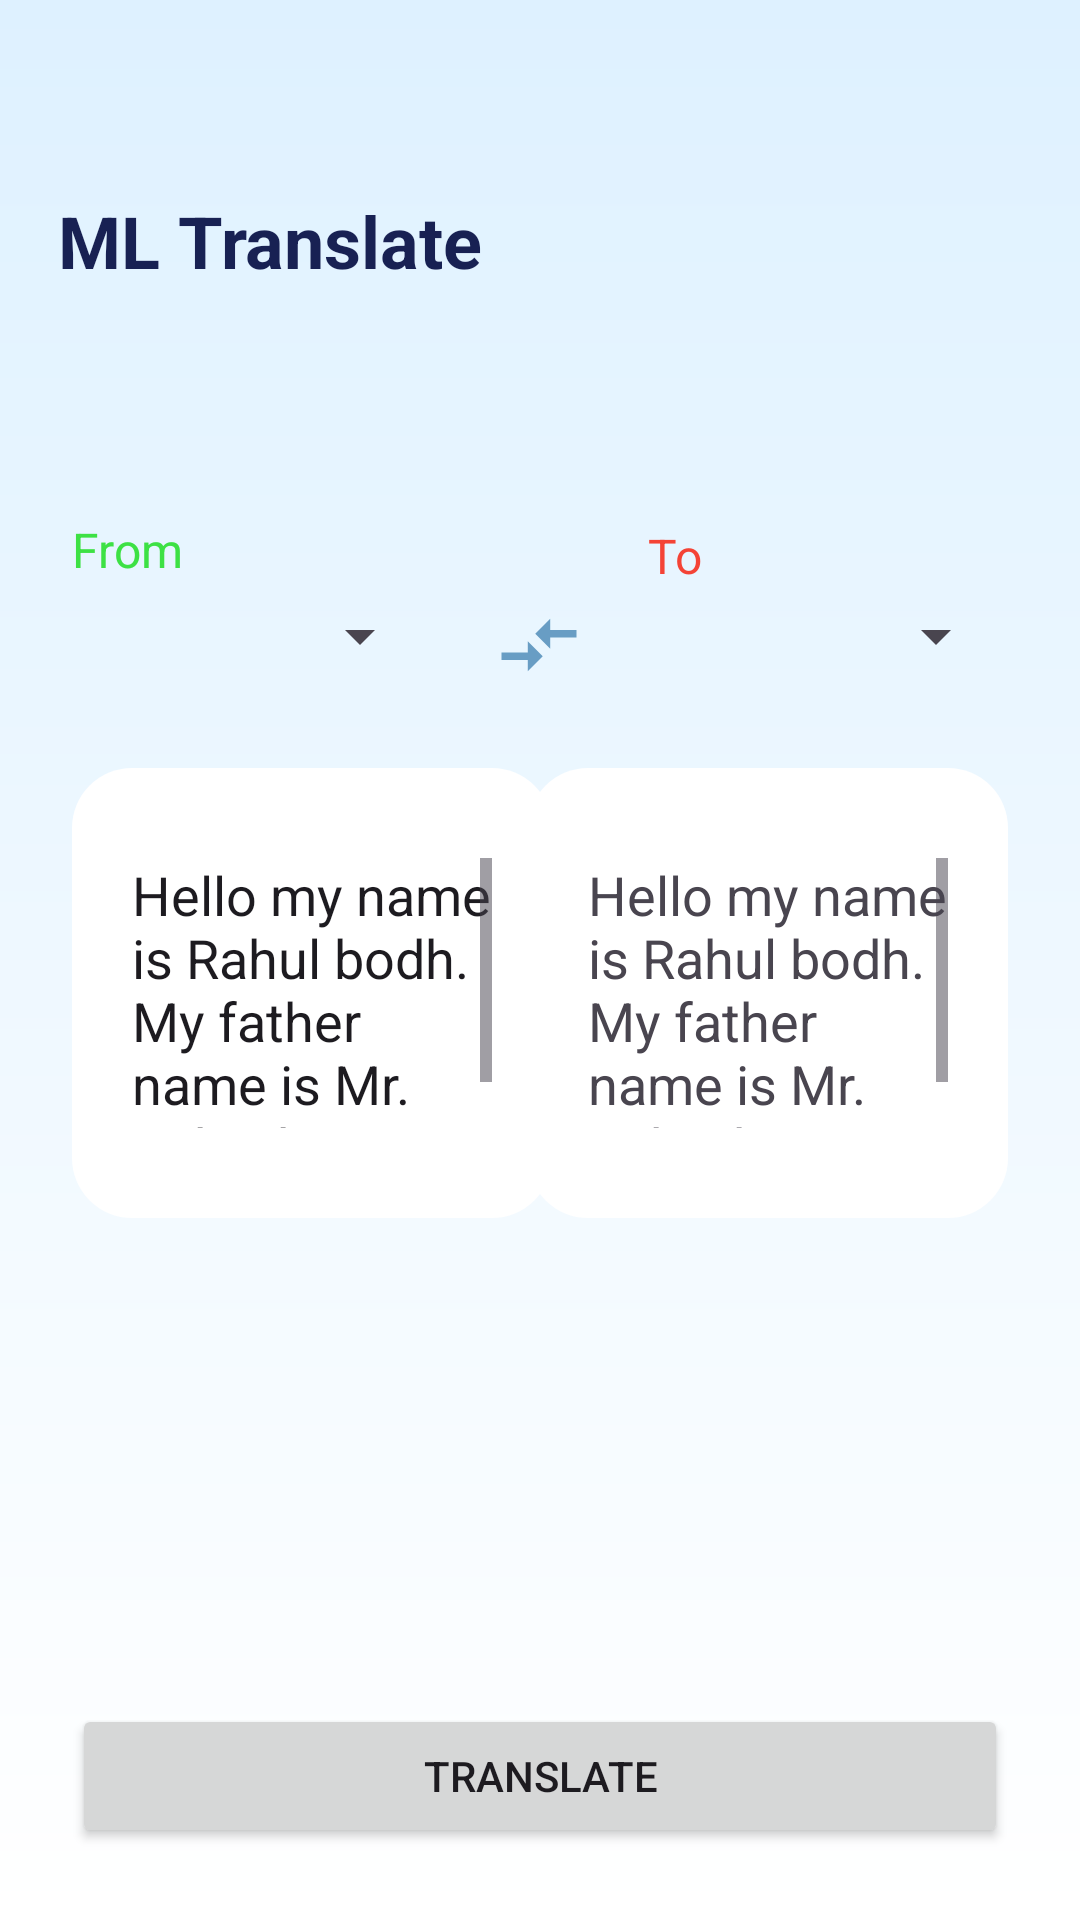

Where icons sit on this 1080*1920 app screen, as (x1,y1,x2,y2):
compare arrows: (501,619,577,671)
